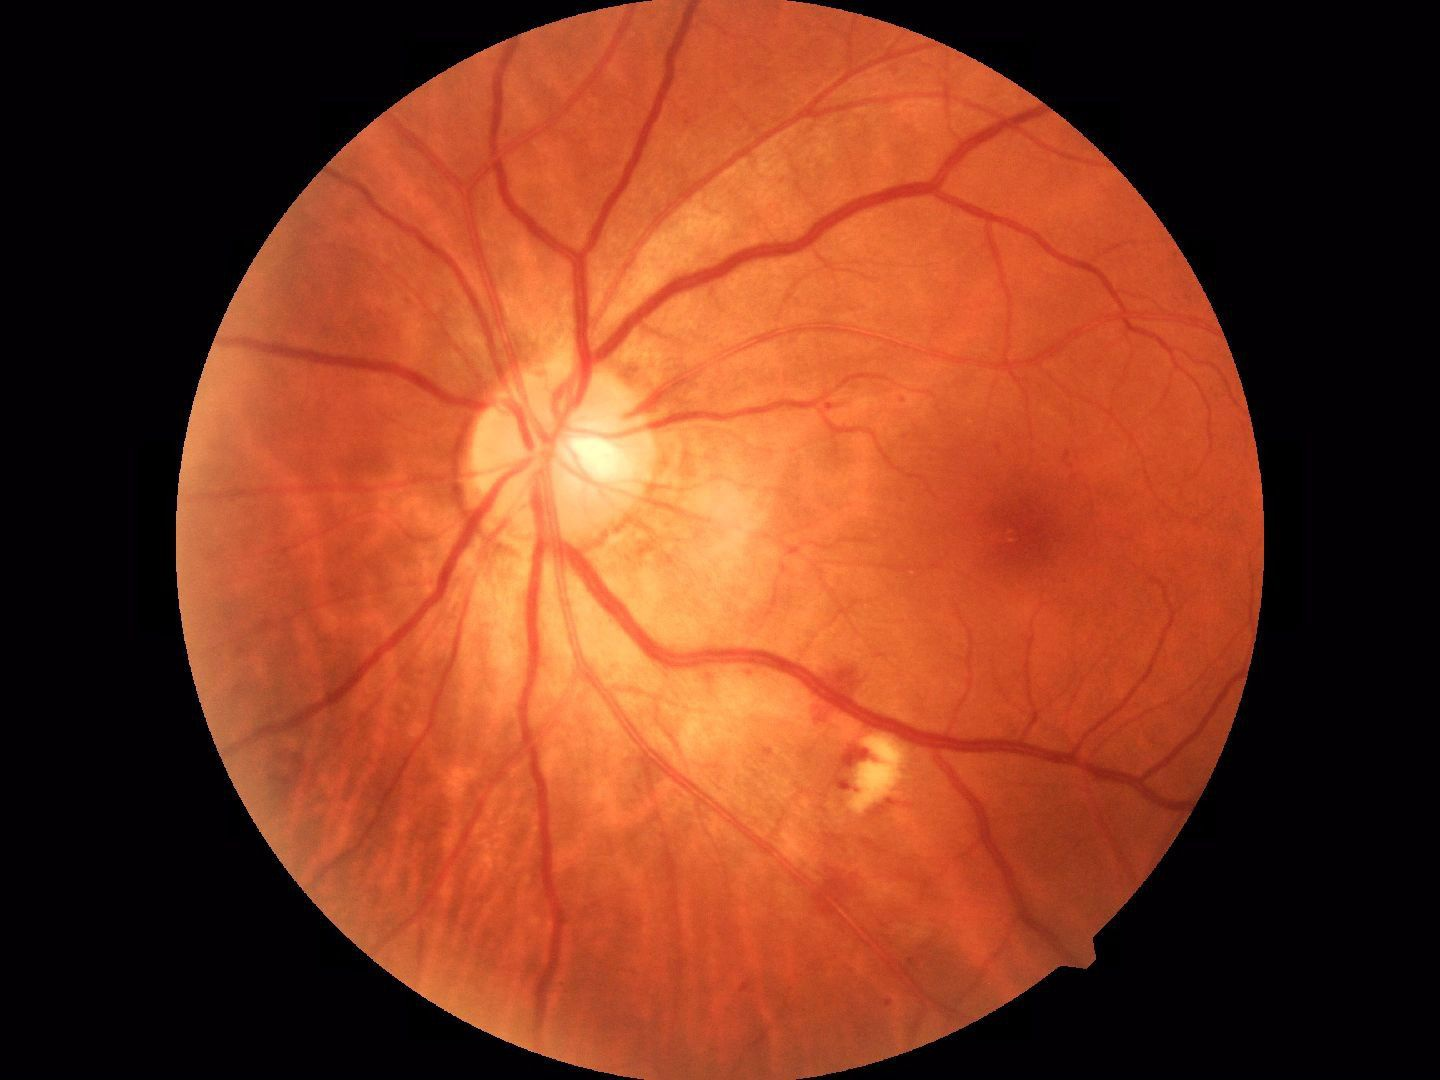Exudates: (827, 735, 921, 811)
Hemorrhages: (968, 466, 1119, 585)
Optic-Disc: (458, 353, 674, 558)
Venules: (527, 201, 751, 324), (547, 576, 801, 684)
